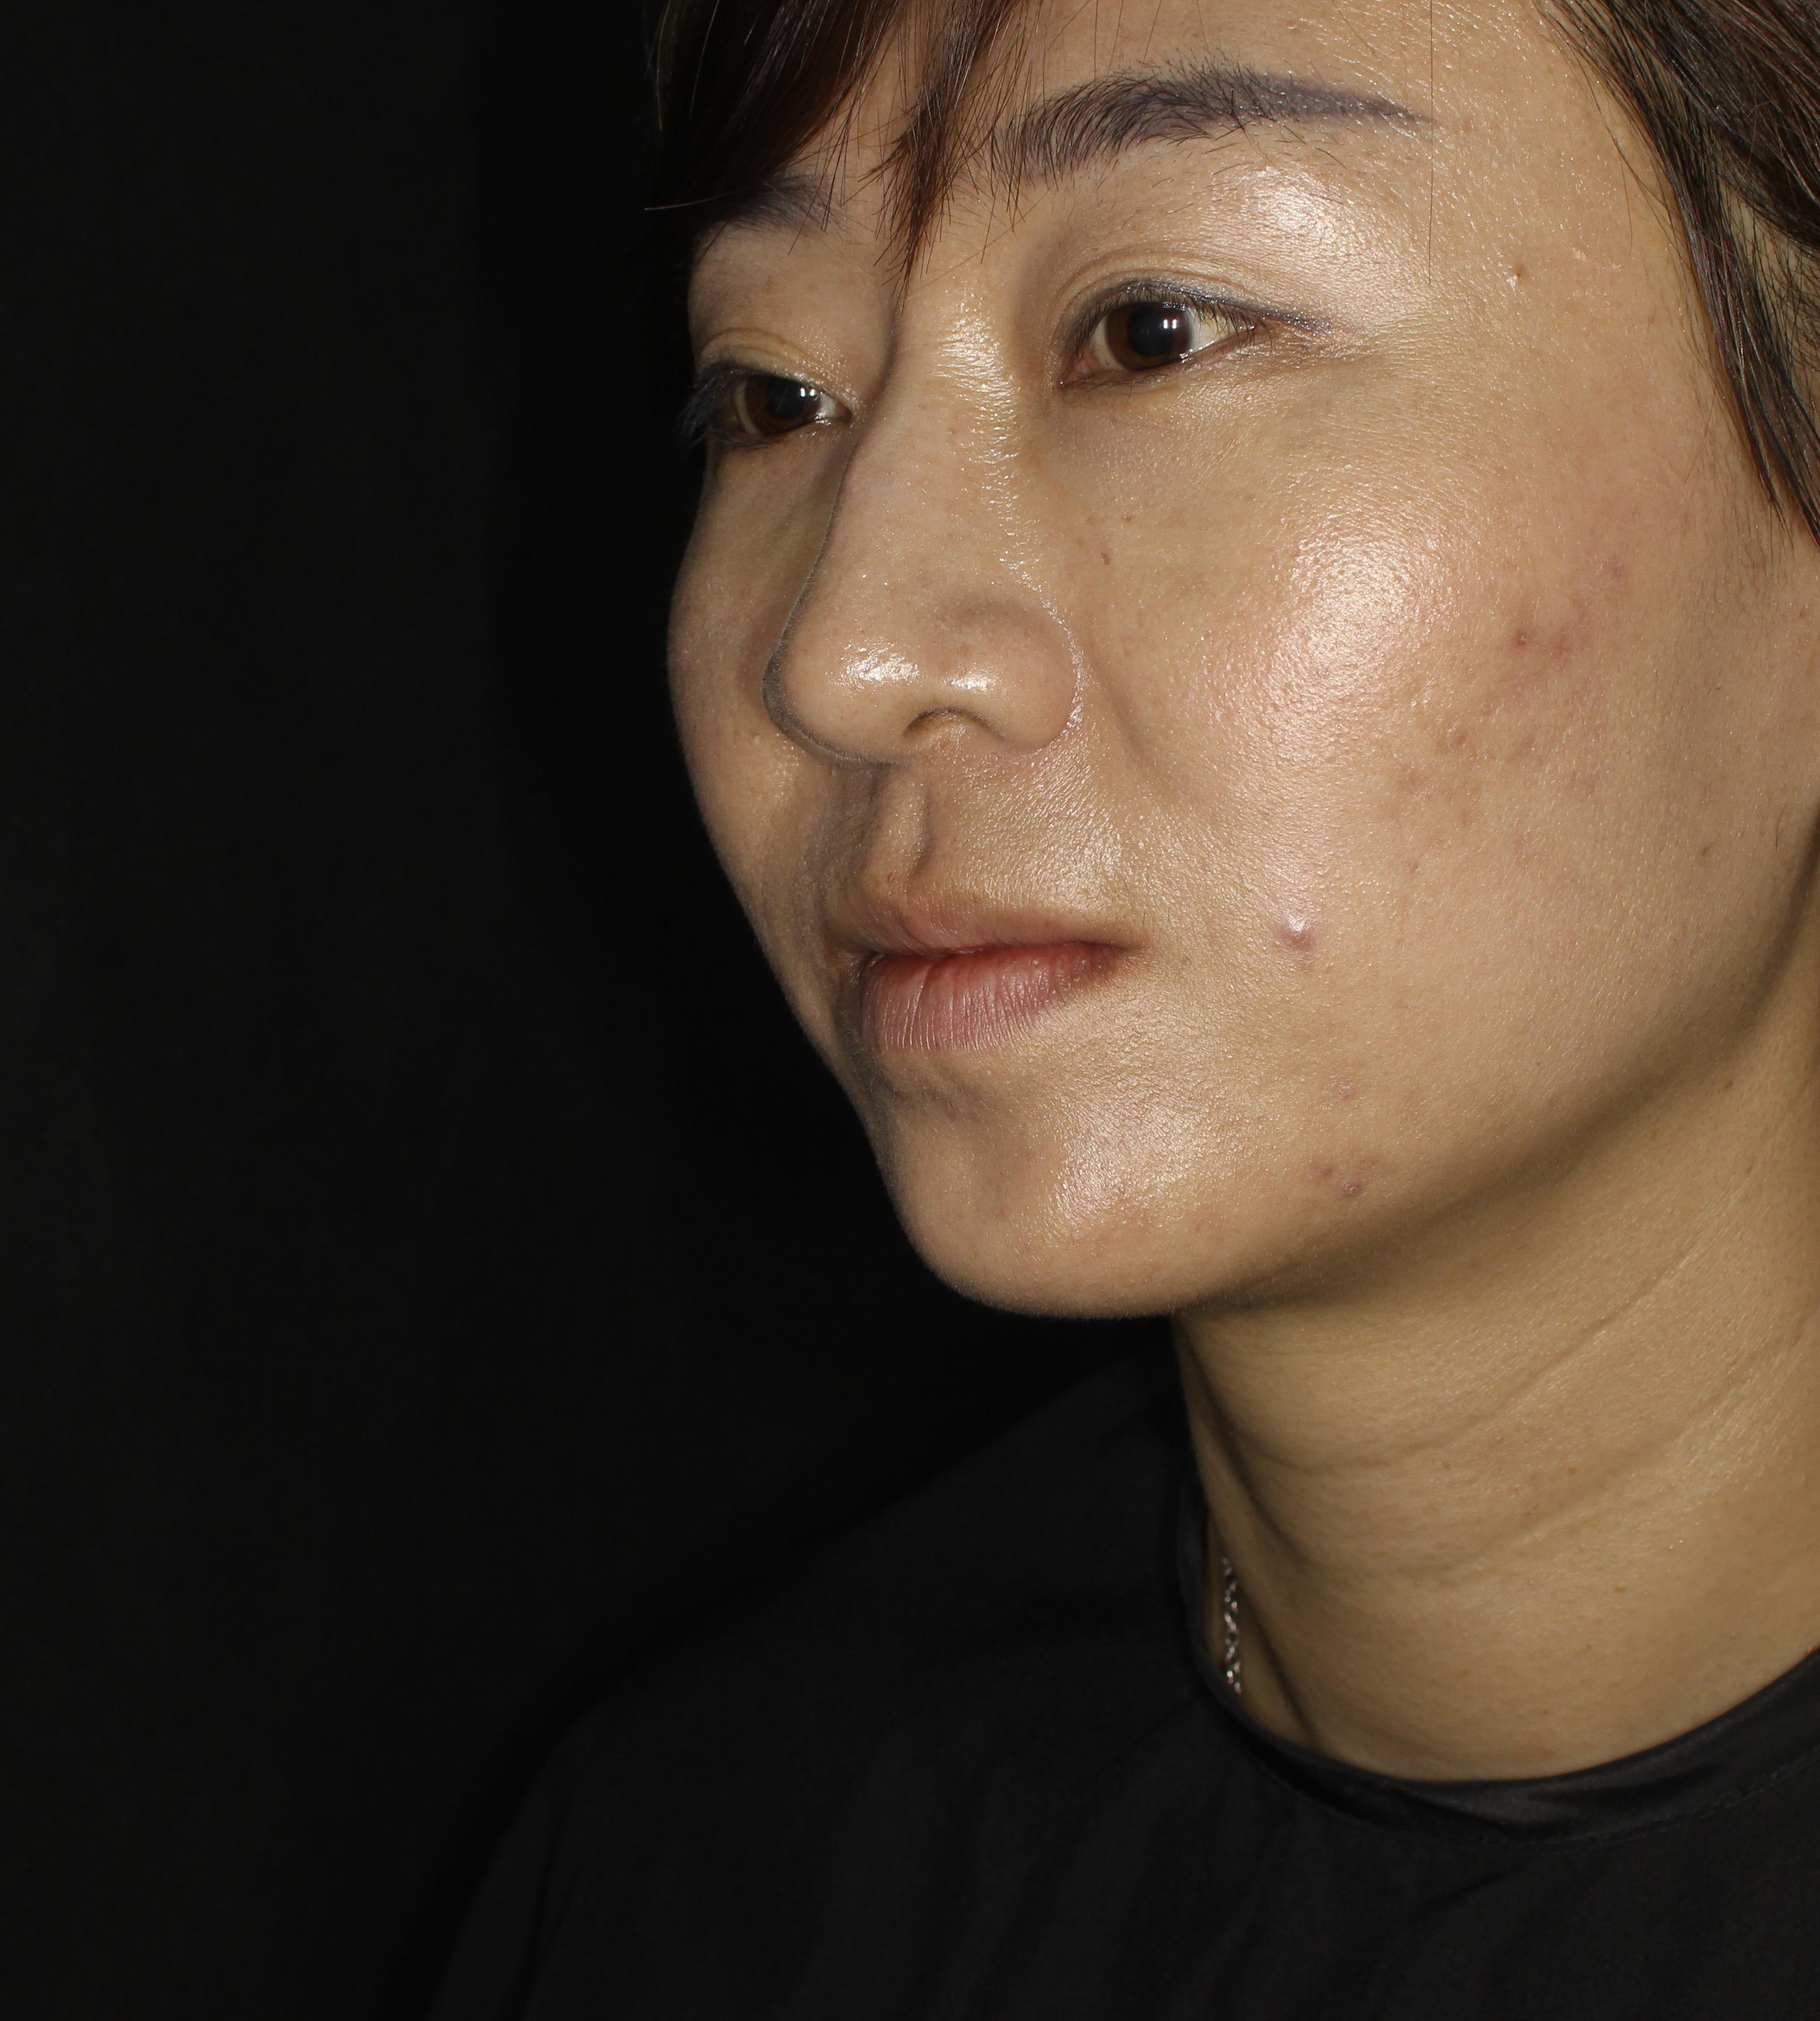fore: (1499, 585, 1592, 697), (1296, 1145, 1390, 1222), (1265, 890, 1328, 962)
